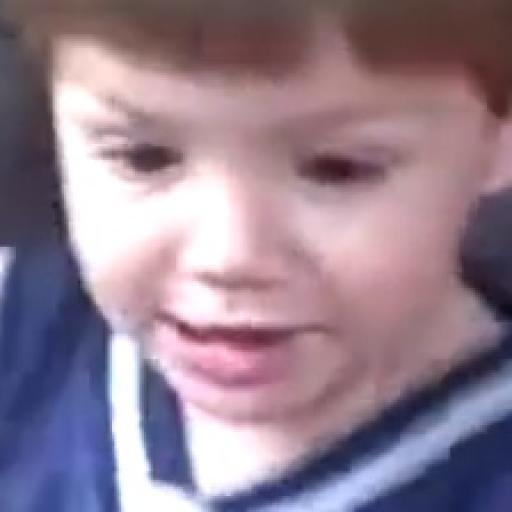Autism: (39, 0, 512, 505)
